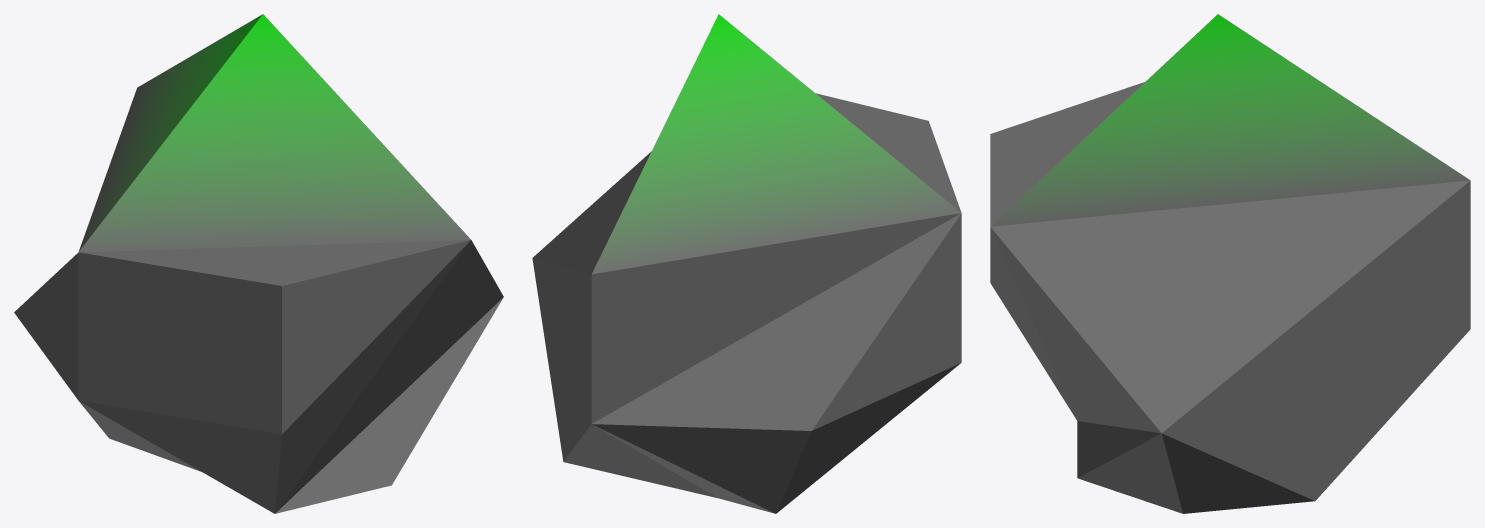
The model's file is before_cleaning_conquest_2.obj.
3 renders of one model, left to right at view 1: azimuth 30°, elevation 25°; view 2: azimuth 150°, elevation 25°; view 3: azimuth 270°, elevation 25°, orthographic.
Bounding box in the file's own units: 1.85 × 2 × 1.81.
